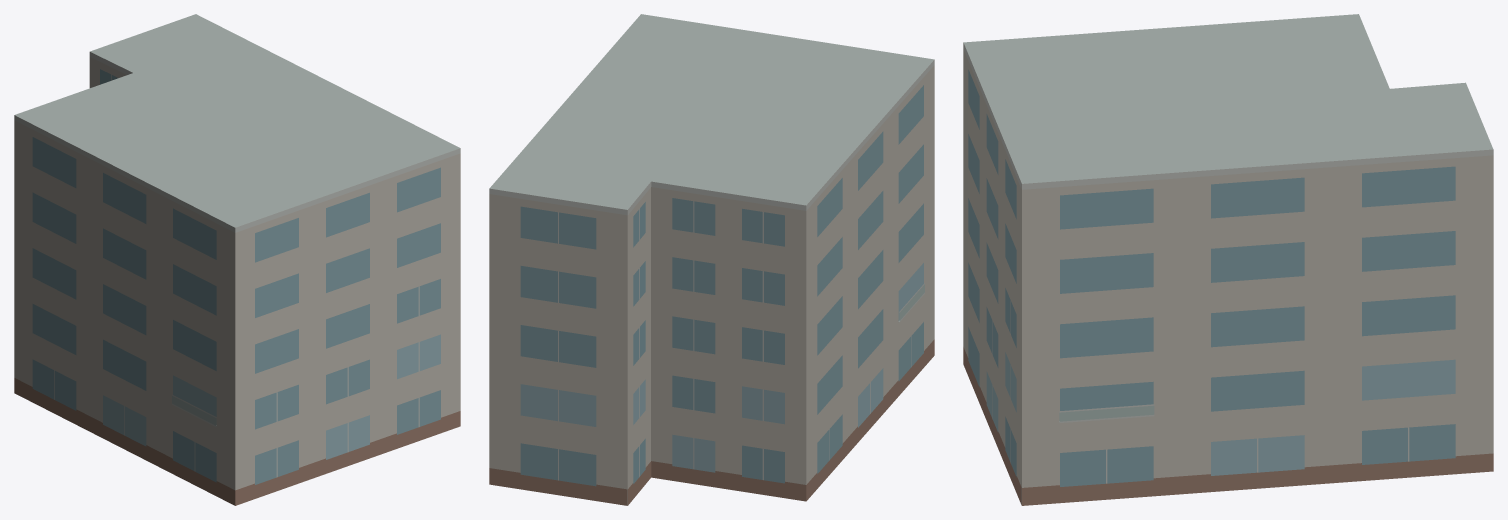
Rendered from survey-upis-32713489.glb.
3 views of the same model, side by side, from view 1: azimuth 30°, elevation 25°; view 2: azimuth 150°, elevation 25°; view 3: azimuth 270°, elevation 25° (orthographic). The views are drawn at different scales.
Visible parts, largest first — view 1: survey-upis-32713489.tmp; view 2: survey-upis-32713489.tmp; view 3: survey-upis-32713489.tmp.
Part boxes in pixels (left/top/right/bottom): survey-upis-32713489.tmp: left=14, top=14, right=460, bottom=505; survey-upis-32713489.tmp: left=489, top=14, right=934, bottom=505; survey-upis-32713489.tmp: left=963, top=14, right=1493, bottom=505.
Bounding box in the file's own units: 15.06 × 13.3 × 19.86.
